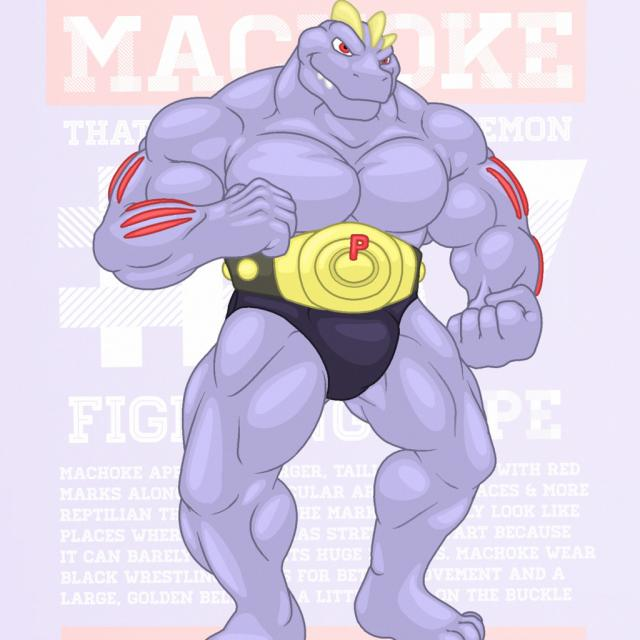Machoke: (91, 16, 543, 640)
